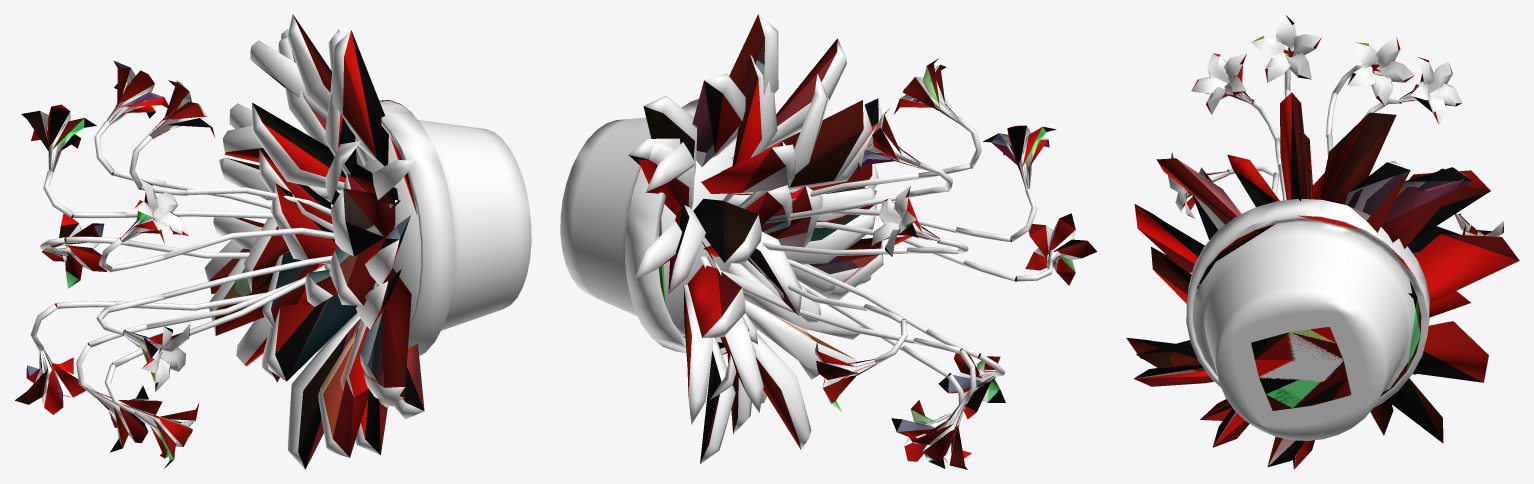
The picture shows the model from 3 angles, left to right: view 1: azimuth 30°, elevation 25°; view 2: azimuth 150°, elevation 25°; view 3: azimuth 270°, elevation 25°; orthographic projection. The views are drawn at different scales.
Size of the model in its own units: 1.4 by 1.34 by 1.2.
